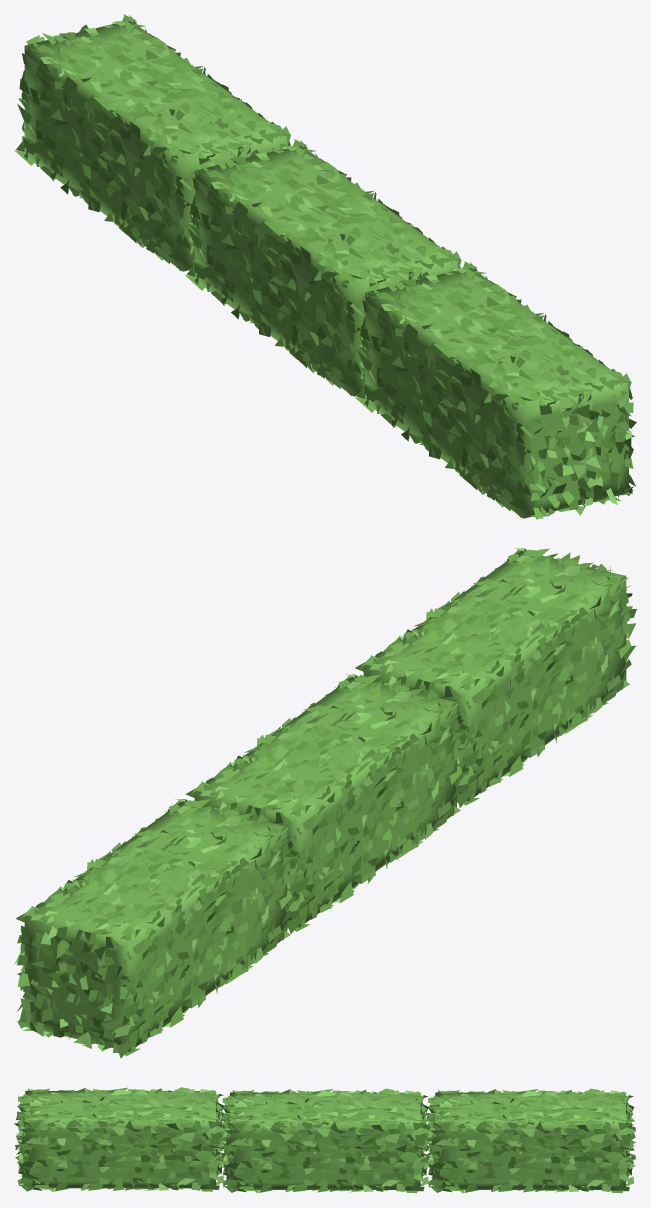
The model's file is BUSH9.fbx.
3 views of the same model, one above another, from view 1: azimuth 30°, elevation 25°; view 2: azimuth 150°, elevation 25°; view 3: azimuth 270°, elevation 25° (orthographic). The views are drawn at different scales.
Parts seen in each view (by area): view 1: Cube.549; view 2: Cube.549; view 3: Cube.549.
Part boxes in pixels (bbox=[...]): Cube.549: bbox=[14, 14, 636, 519]; Cube.549: bbox=[14, 548, 636, 1058]; Cube.549: bbox=[14, 1087, 636, 1193].
Bounding box in the file's own units: 1474 × 1496 × 11233.
